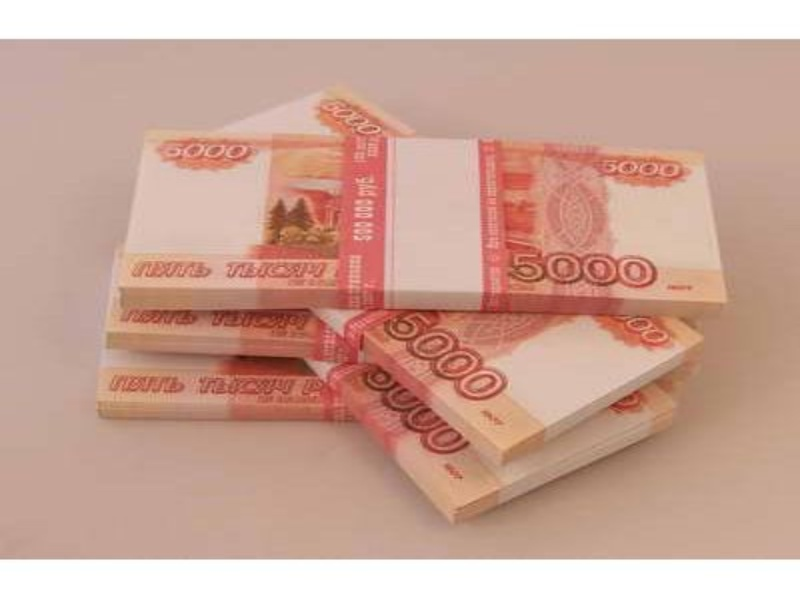cash: (97, 85, 729, 524)
